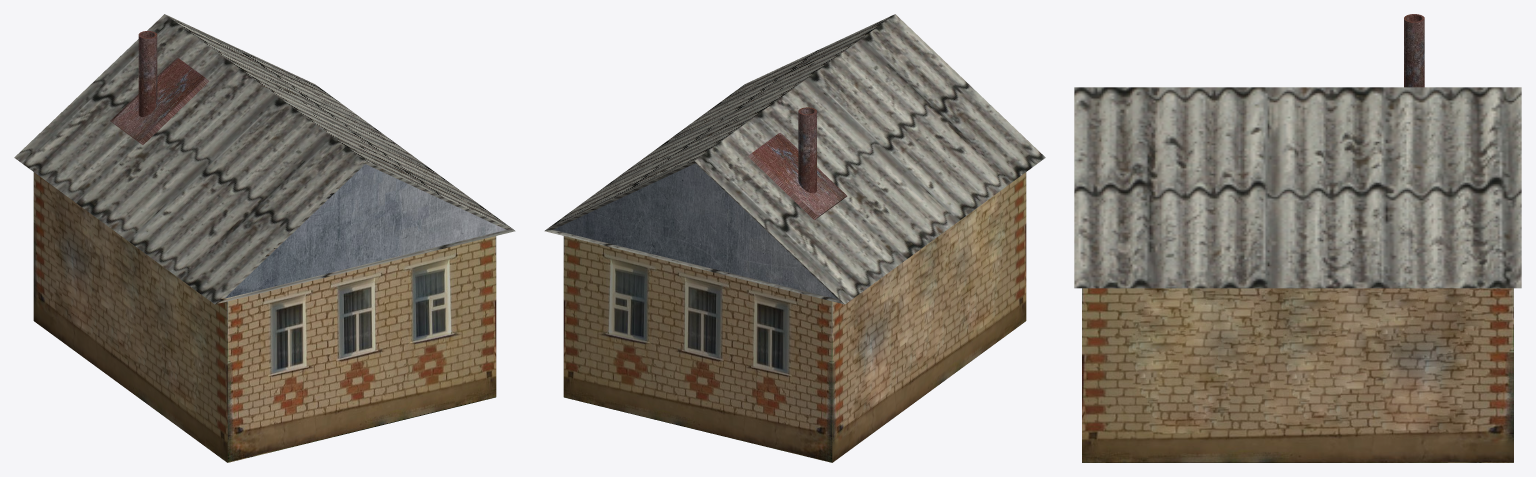
The model's file is RussianHouse01.glb.
3 views of the same model, side by side, from view 1: azimuth 30°, elevation 25°; view 2: azimuth 150°, elevation 25°; view 3: azimuth 270°, elevation 25° (orthographic). The views are drawn at different scales.
Visible parts, largest first — view 1: Крыша, Стена1, Стена0, Ржавый металл, Труба; view 2: Крыша, Стена3, Стена0, Ржавый металл, Труба; view 3: Крыша, Стена2, Труба.
Part boxes in pixels (bbox=[...]): Крыша: bbox=[14, 14, 515, 304]; Стена1: bbox=[227, 236, 496, 462]; Стена0: bbox=[33, 172, 227, 462]; Ржавый металл: bbox=[110, 57, 209, 144]; Труба: bbox=[138, 31, 157, 116]; Крыша: bbox=[544, 14, 1045, 304]; Стена3: bbox=[563, 236, 832, 462]; Стена0: bbox=[832, 172, 1026, 462]; Ржавый металл: bbox=[748, 132, 847, 220]; Труба: bbox=[798, 107, 816, 193]; Крыша: bbox=[1074, 87, 1521, 288]; Стена2: bbox=[1082, 288, 1513, 462]; Труба: bbox=[1404, 14, 1424, 87].
Bounding box in the file's own units: 8.96 × 8.59 × 10.35.
5 materials, 5 textured.
